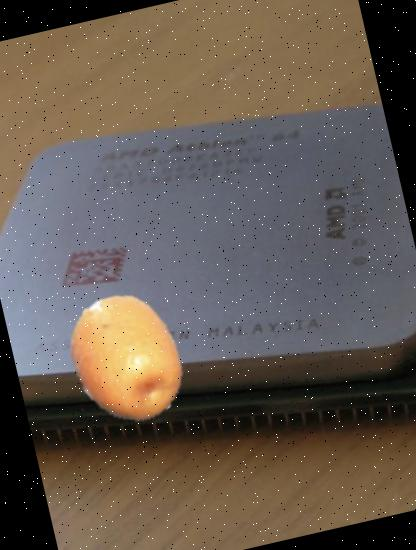Kumquats: (48, 280, 205, 438)
